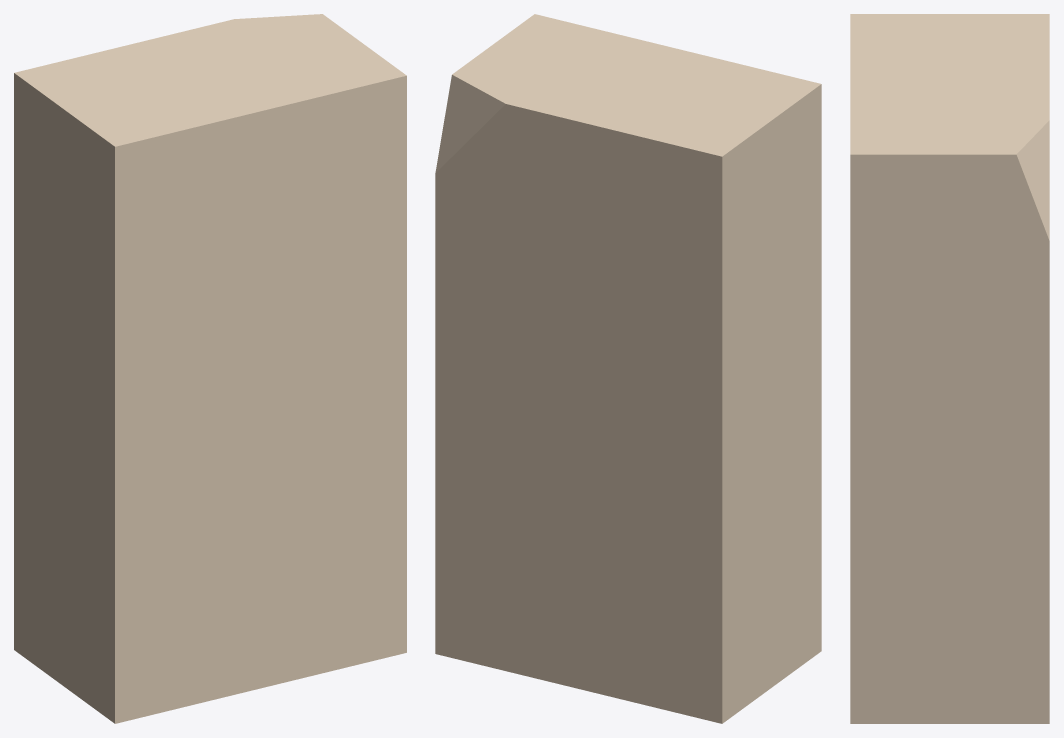
3 views of the same model, side by side, from view 1: azimuth 30°, elevation 25°; view 2: azimuth 150°, elevation 25°; view 3: azimuth 270°, elevation 25° (orthographic).
Visible parts, largest first — view 1: object7; view 2: object7; view 3: object7.
Boxes of the visible parts, <box> form: object7: <box>14,14,406,723</box>; object7: <box>435,14,821,723</box>; object7: <box>850,14,1049,723</box>.
Size of the model in its own units: 0.25 by 0.4725 by 0.15.
